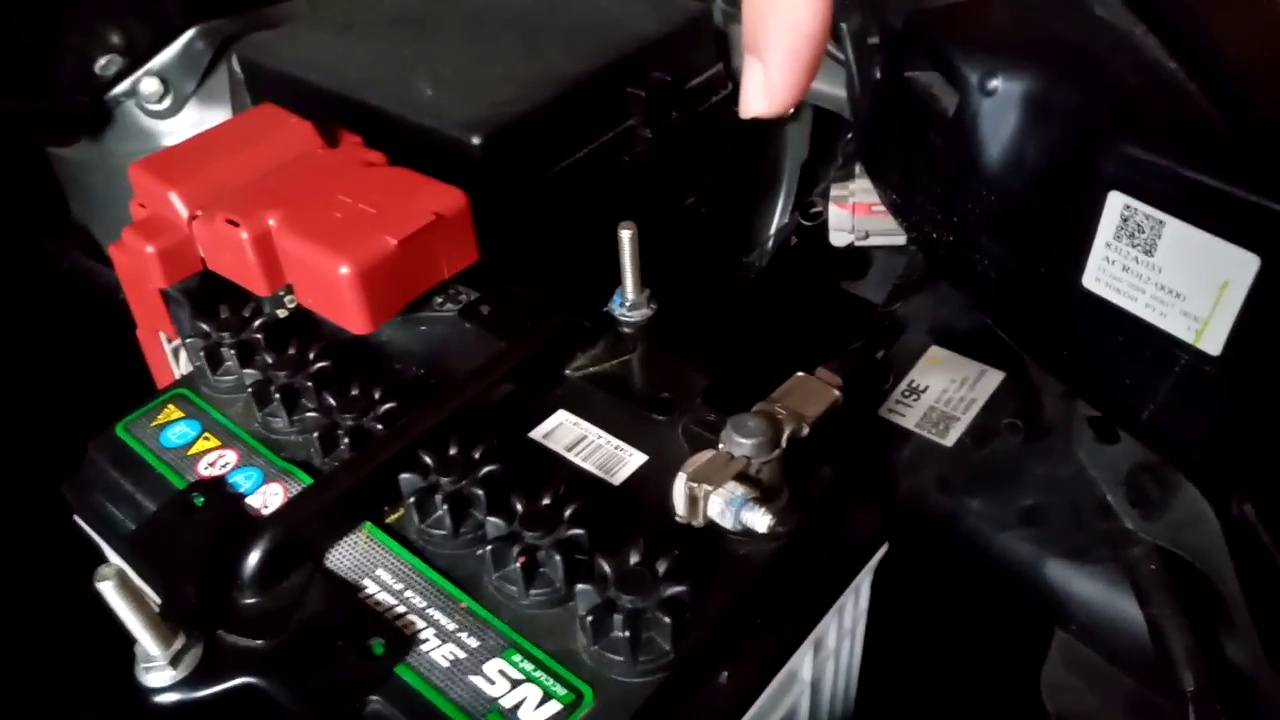battery: (58, 231, 887, 720)
neg_connected: (632, 349, 864, 569)
pos_connected: (84, 124, 497, 403)
